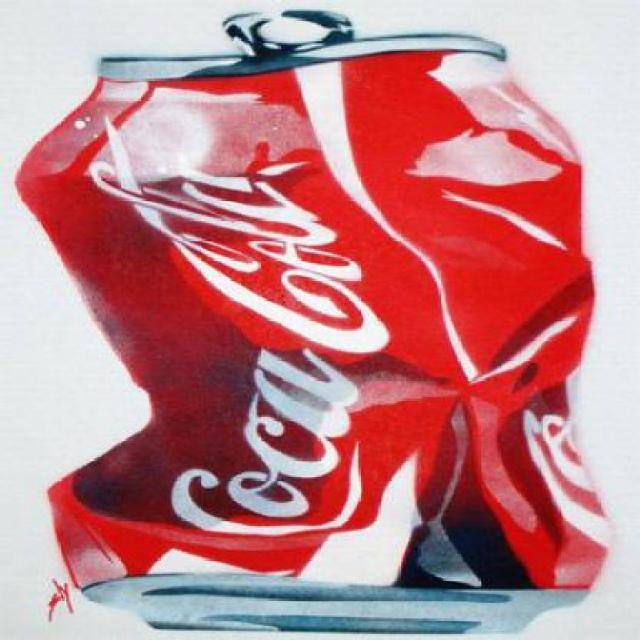Kaleng: (14, 9, 612, 605)
